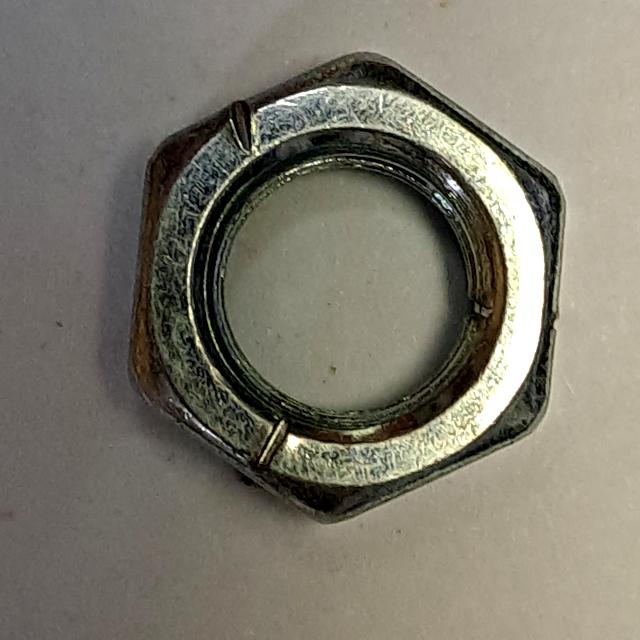Scratches: (105, 38, 577, 540)
